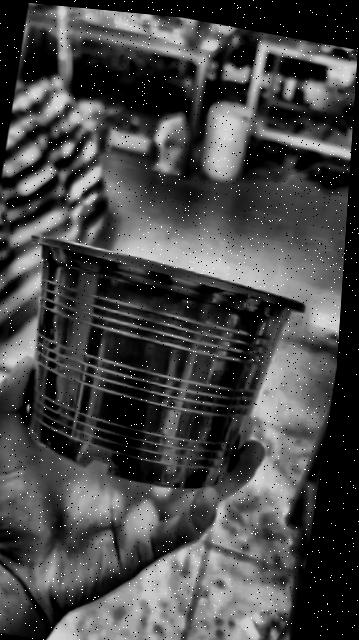pot: (29, 235, 303, 487)
